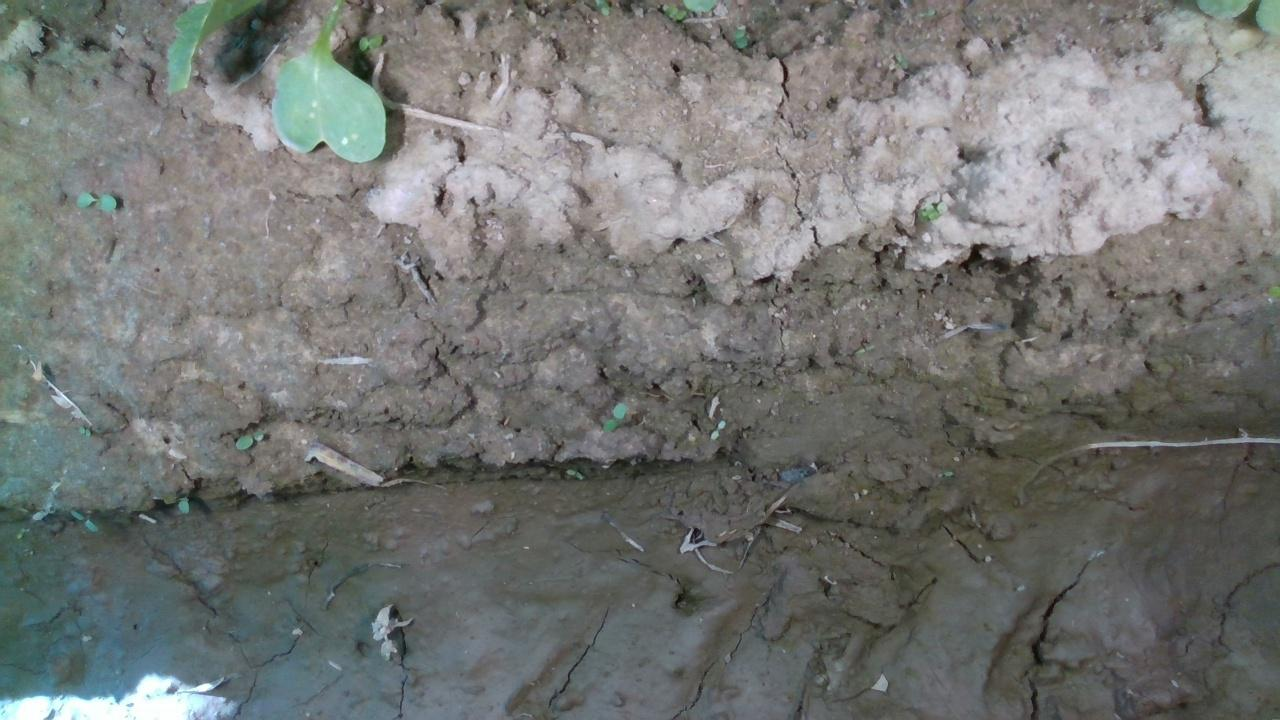weed: (228, 428, 272, 448)
